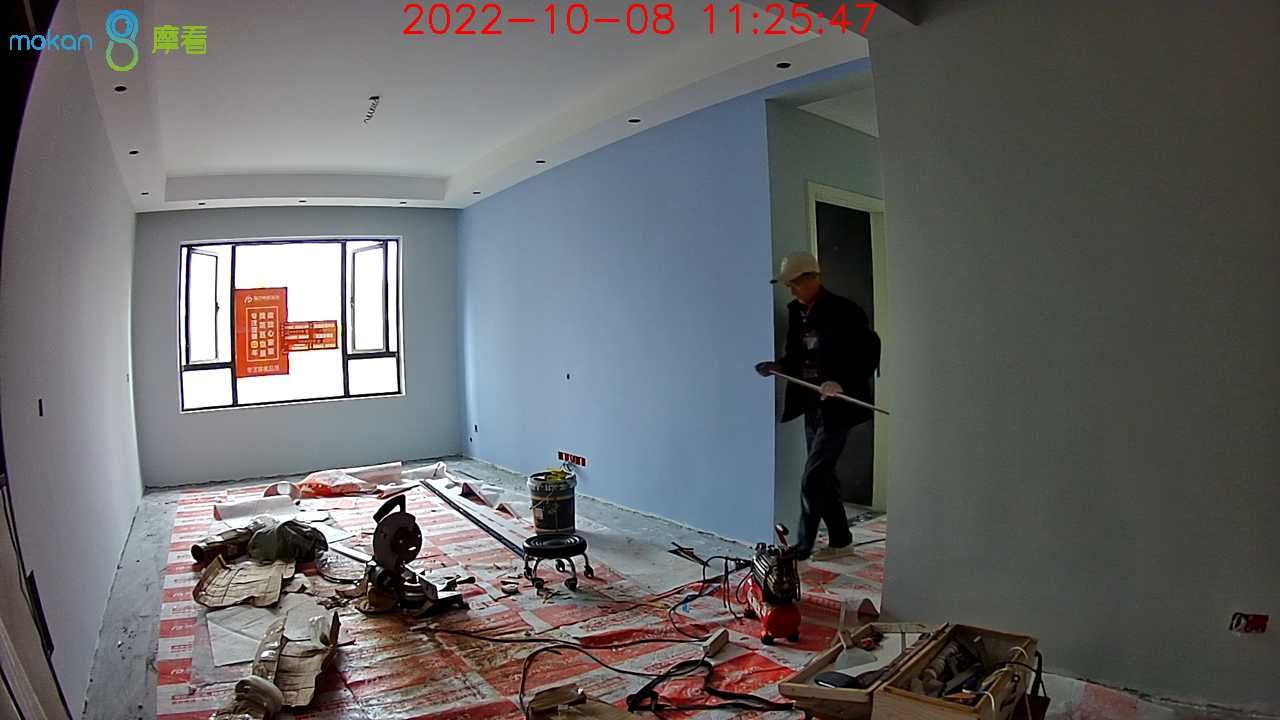people: (755, 252, 881, 559)
window: (181, 241, 403, 410)
